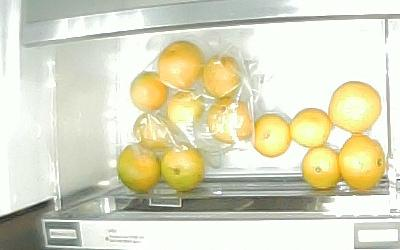tangerine: (339, 133, 386, 193), (330, 81, 383, 133), (162, 147, 207, 191), (119, 145, 160, 193), (250, 113, 292, 157), (301, 146, 341, 189), (290, 109, 331, 148)
tangerine_vinyl: (158, 40, 202, 90), (207, 97, 254, 142), (201, 55, 243, 97), (135, 112, 175, 151), (131, 71, 167, 111), (166, 90, 201, 128)
